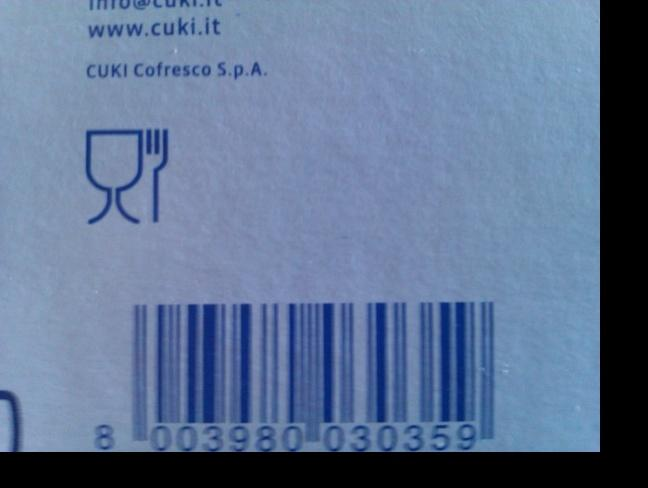Barcode: (90, 297, 503, 452)
